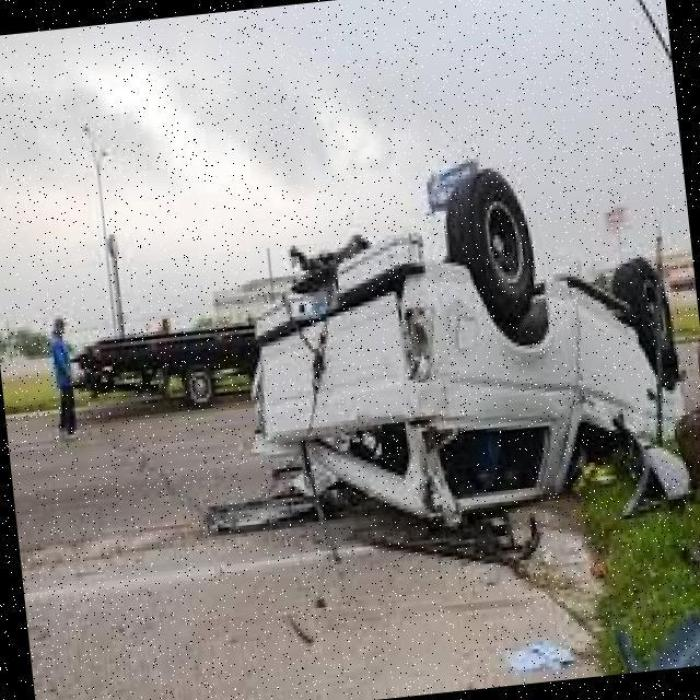Accident: (204, 141, 700, 584)
